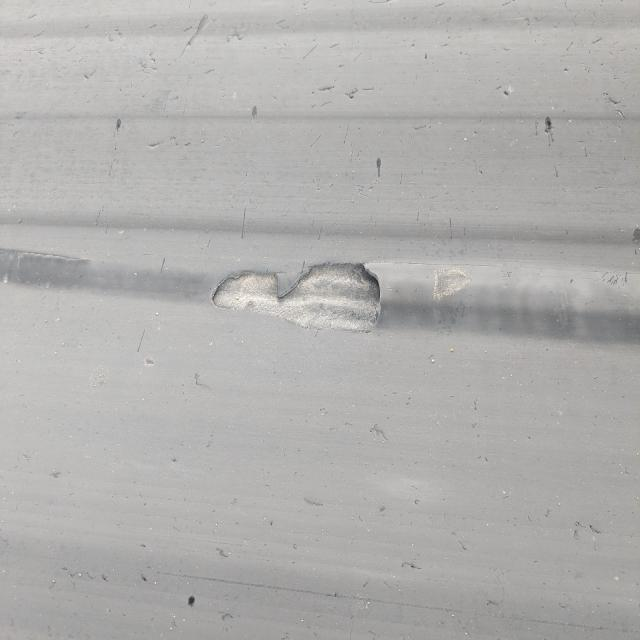Impact Damage: (211, 257, 388, 341)
